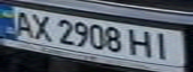0: (87, 21, 106, 52)
2: (51, 16, 75, 46)
8: (103, 25, 127, 54)
9: (69, 19, 90, 48)
A: (6, 8, 39, 38)
H: (127, 27, 157, 58)
I: (148, 30, 181, 61)
X: (27, 11, 54, 42)
